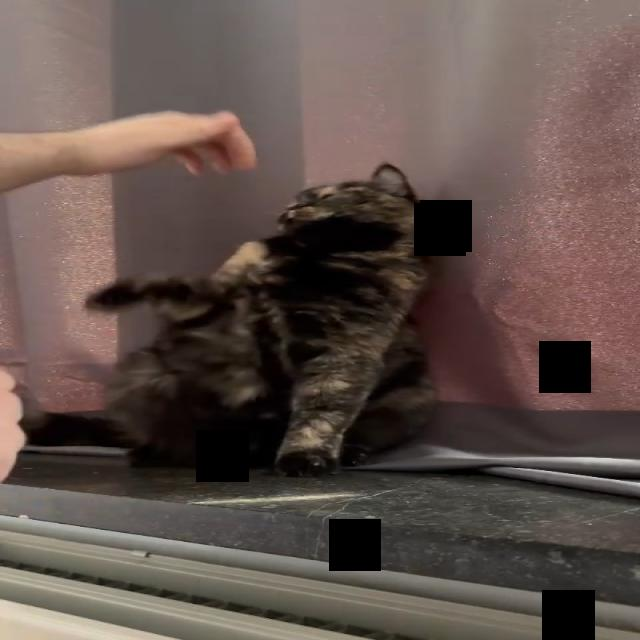authorized: (81, 162, 439, 478)
